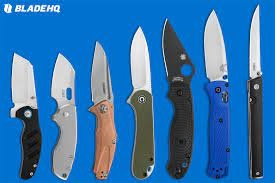knife: (160, 17, 197, 181), (200, 7, 233, 180), (125, 24, 157, 181), (87, 39, 119, 182), (9, 49, 43, 181), (48, 50, 78, 182), (244, 1, 265, 181)
